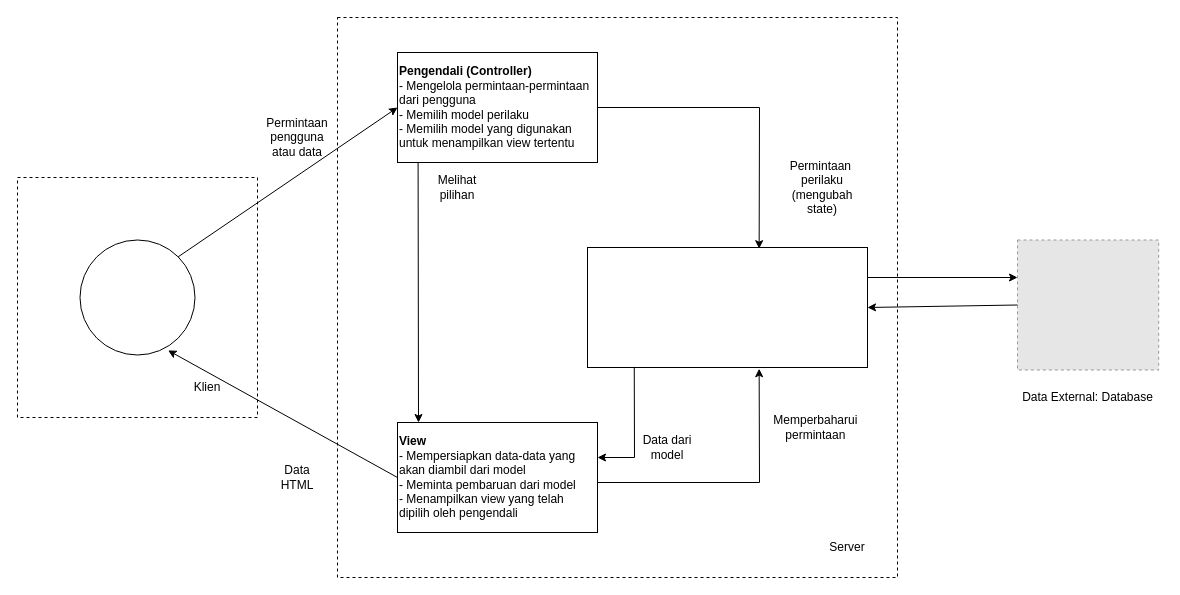
This 1180x595 diagram has some shape labels left out. Grey dashed boxes stand in for pictures. The centre of each missing label's shape, as x and y in pixels:
Browser: the point at 137,297
Model - Membungkus fungsionalitas - Membungkus objek-objek isi: the point at 727,307
